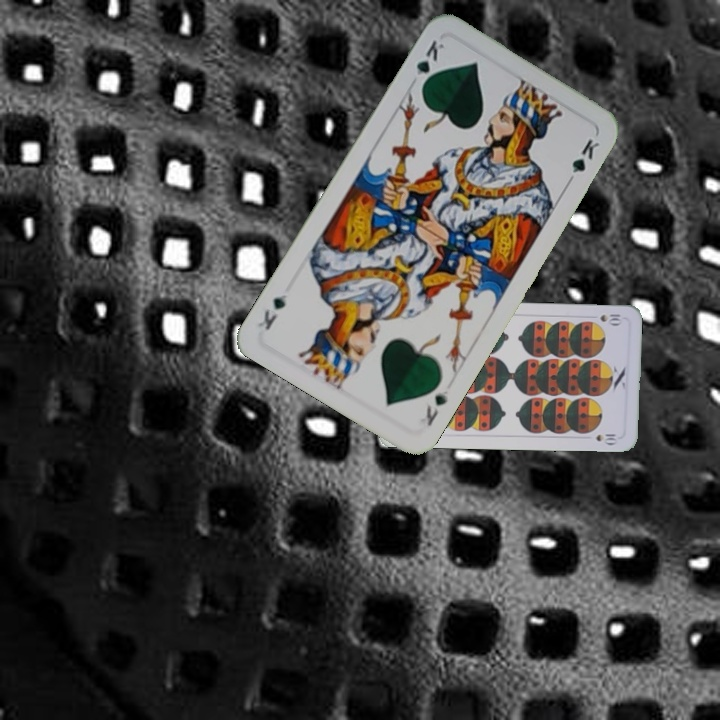GK: (412, 35, 447, 92), (421, 386, 451, 429)
S10: (596, 310, 625, 327)
